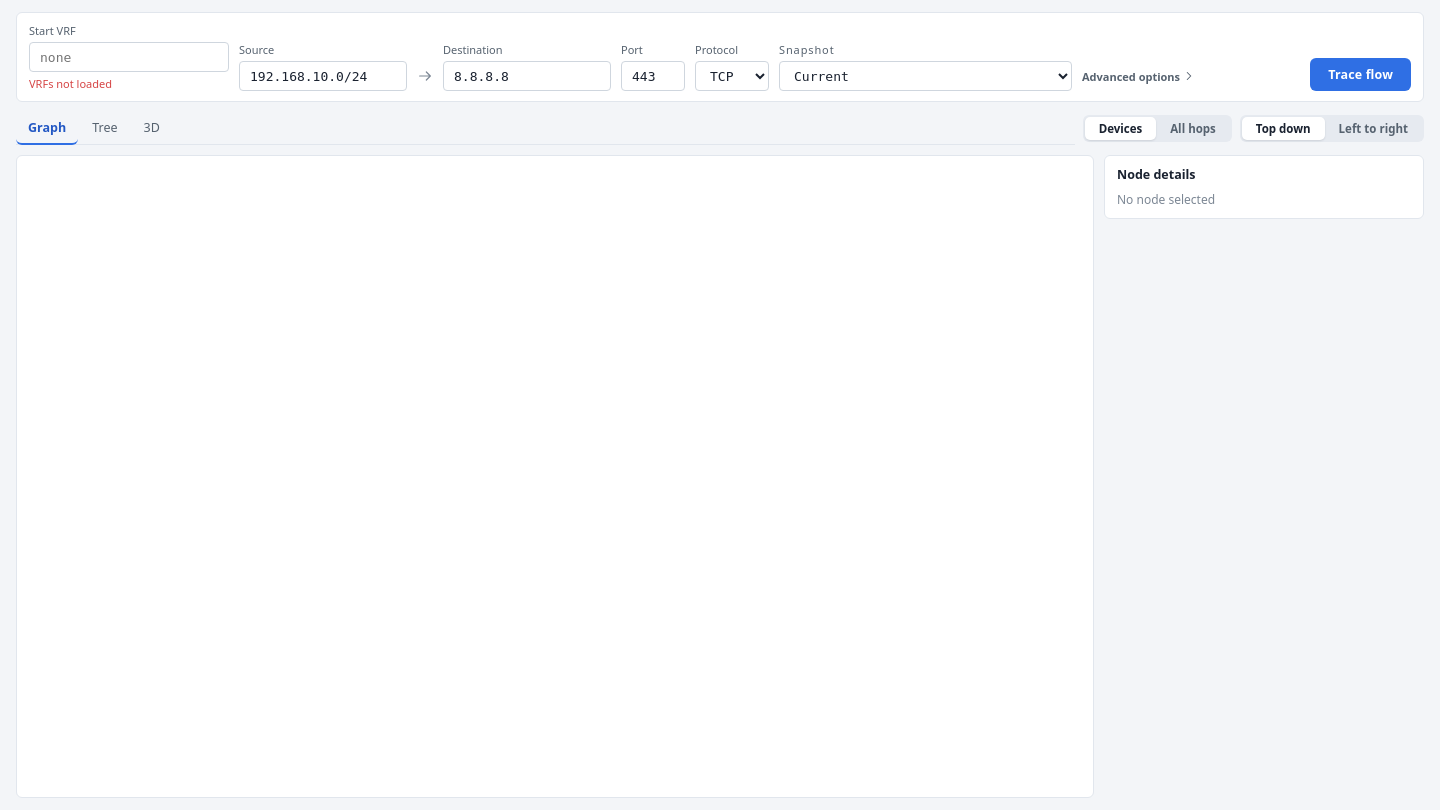
Test case: TracePage: collapsible info and inspector blocks › a new trace collapses both blocks, even if the previous result left them open
The width and height of the screenshot is (1440, 810).
Click the button "Trace flow" at [1361, 74], box 1310,58 -> 1411,91
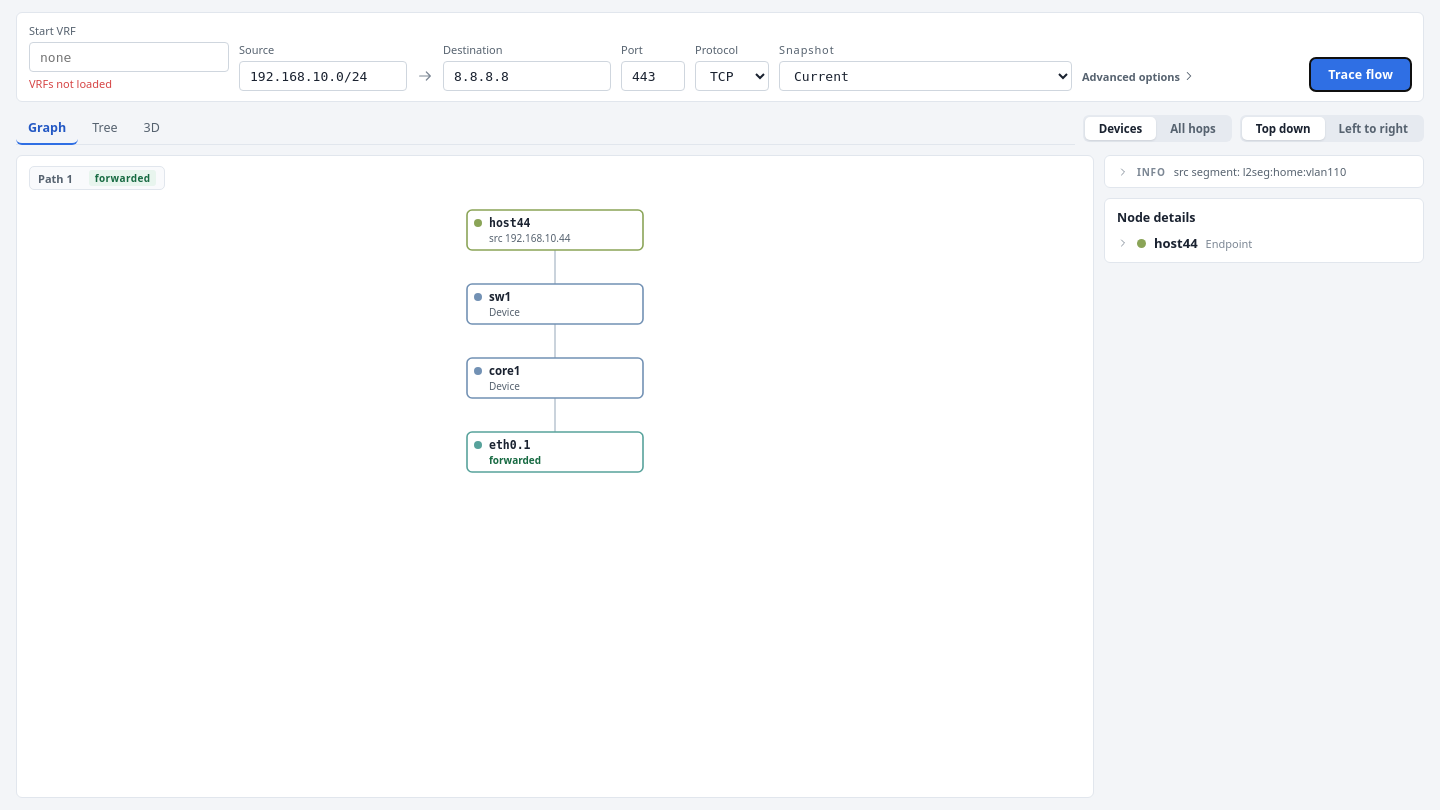
Now the icon named "Path graph" is shown, box 455,198 -> 655,484
Click the button with class "tb-head" that starts with "Info" at [1264, 172], box 1117,164 -> 1411,179
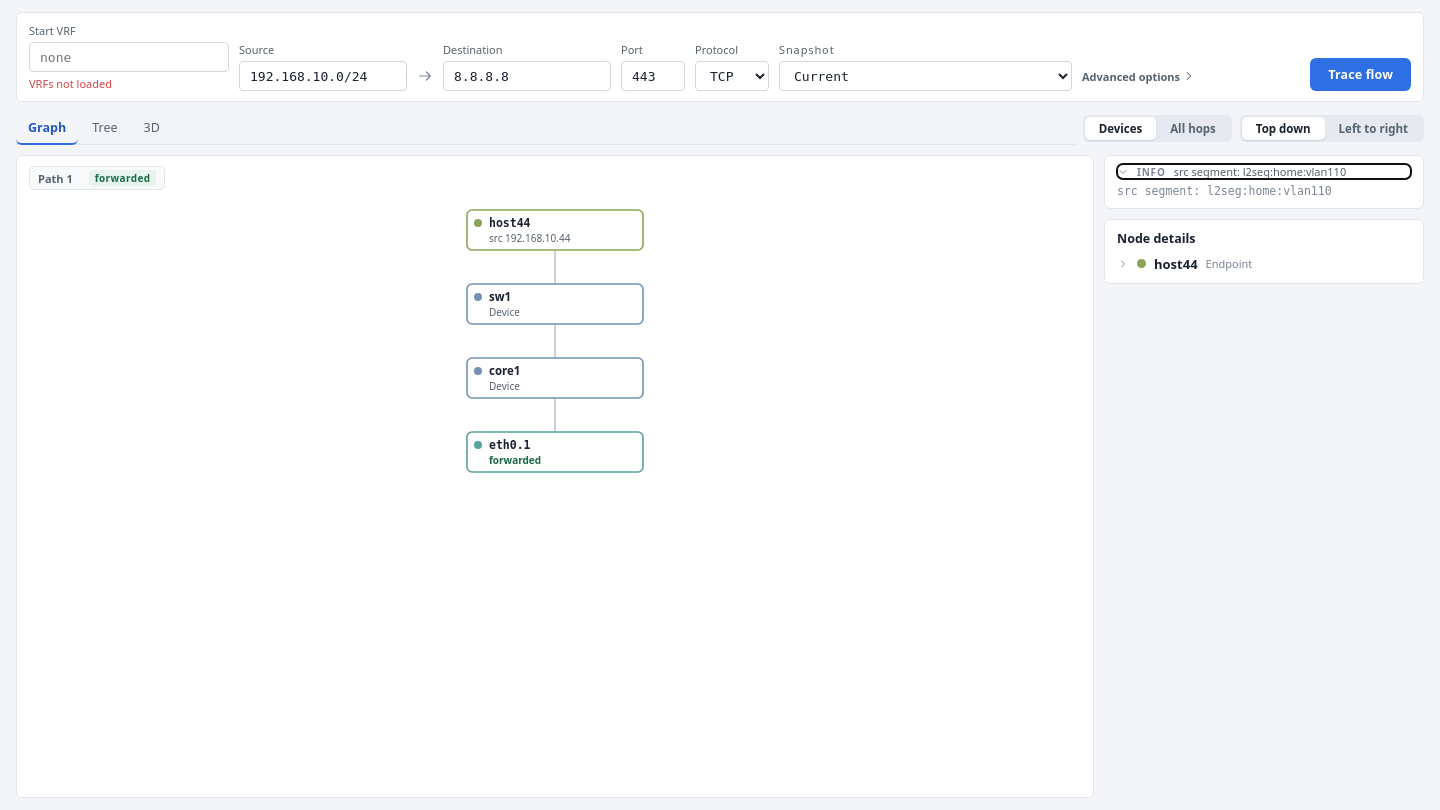
Click the button with class "tb-head" showing "host44 Endpoint" at [1176, 264], box 1117,255 -> 1411,273
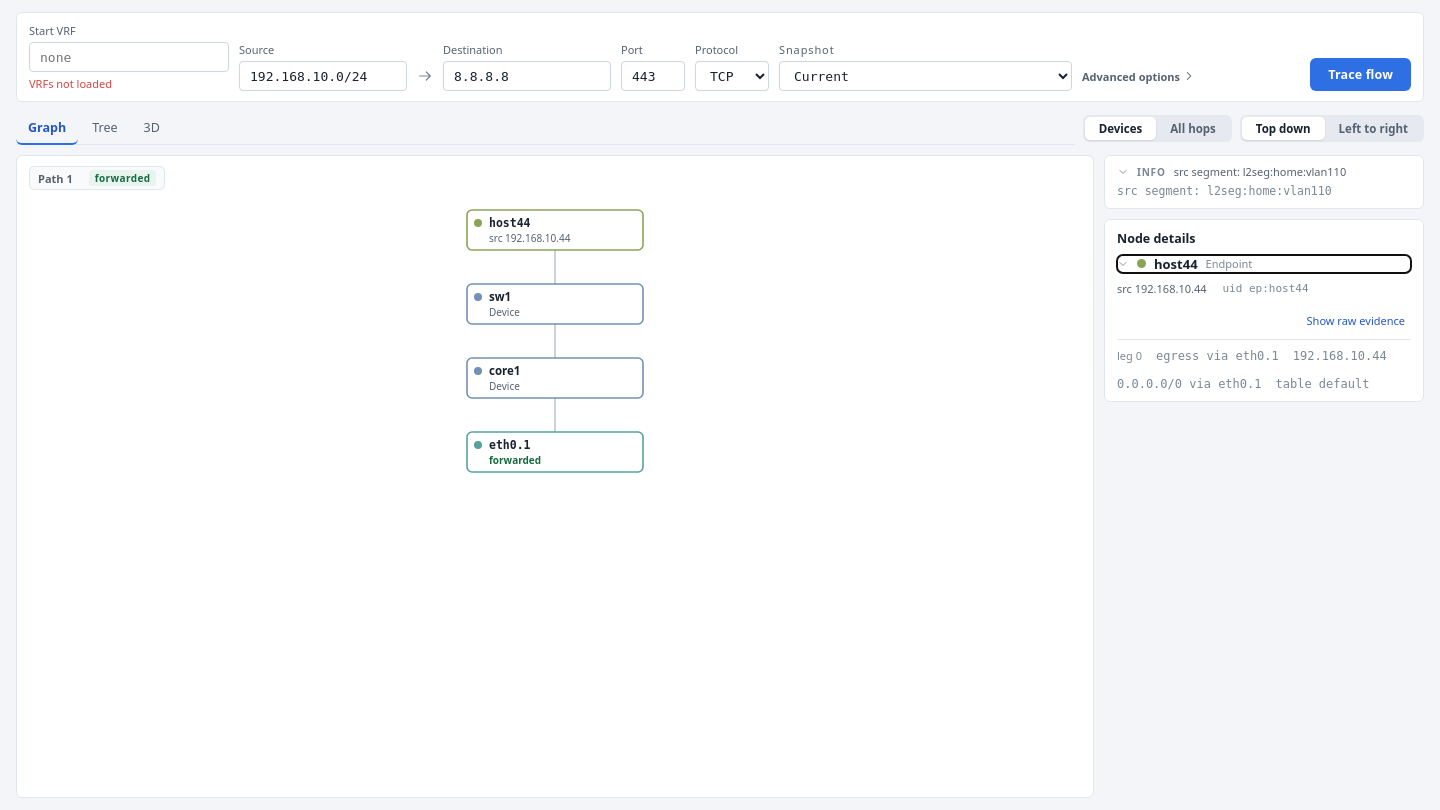
Now the button with class "tb-head" is expanded, box 1117,164 -> 1411,179
Click the button "Trace flow" at [1361, 74], box 1310,58 -> 1411,91
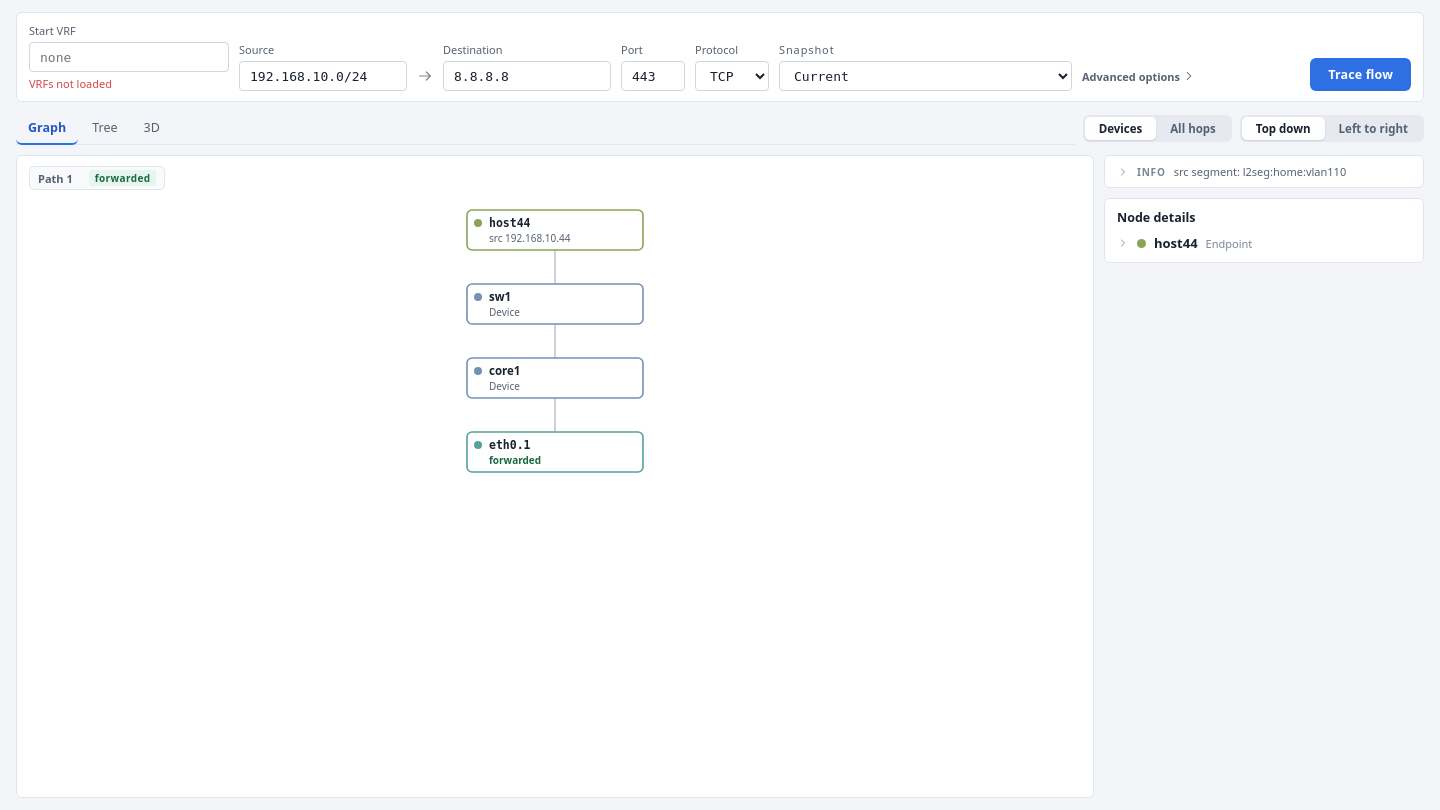
Now the button with class "tb-head" is collapsed, box 1117,164 -> 1411,179
